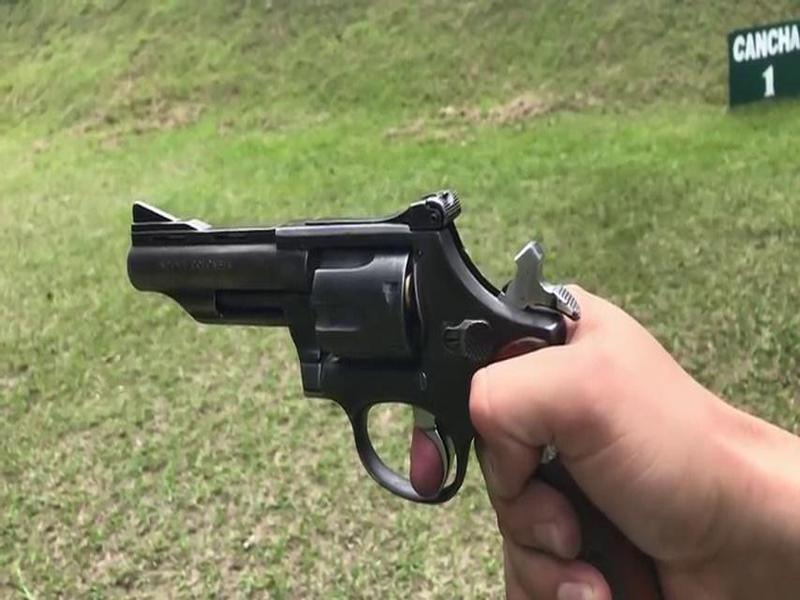Revolver: (123, 184, 599, 504)
